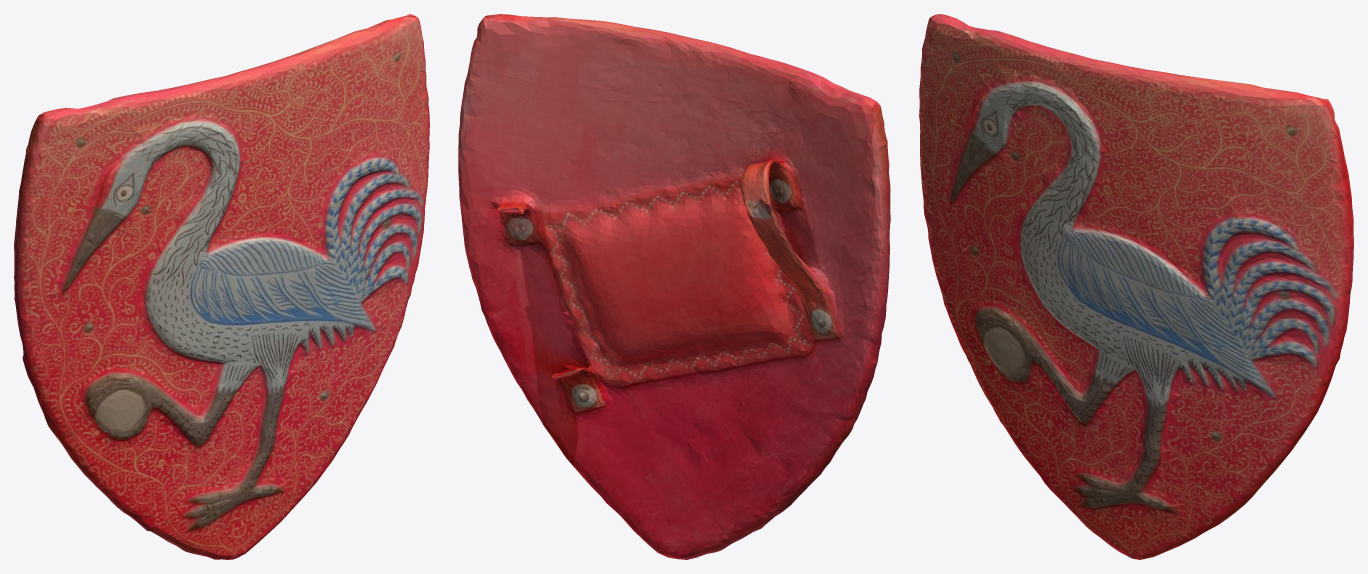
Rendered from shield-14c-1.glb.
The picture shows the model from 3 angles, left to right: view 1: azimuth 30°, elevation 25°; view 2: azimuth 150°, elevation 25°; view 3: azimuth 330°, elevation 25°; orthographic projection.
Visible parts, largest first — view 1: 14C_Shield_Final_14C_Shield_Needs_Paint.001_0; view 2: 14C_Shield_Final_14C_Shield_Needs_Paint.001_0; view 3: 14C_Shield_Final_14C_Shield_Needs_Paint.001_0.
Boxes of the visible parts, <box> form: 14C_Shield_Final_14C_Shield_Needs_Paint.001_0: <box>14,14,429,559</box>; 14C_Shield_Final_14C_Shield_Needs_Paint.001_0: <box>458,14,890,559</box>; 14C_Shield_Final_14C_Shield_Needs_Paint.001_0: <box>919,14,1353,559</box>.
Size of the model in its own units: 0.5756 by 0.66 by 0.1066.
Materials: 1 (1 with a texture image).
